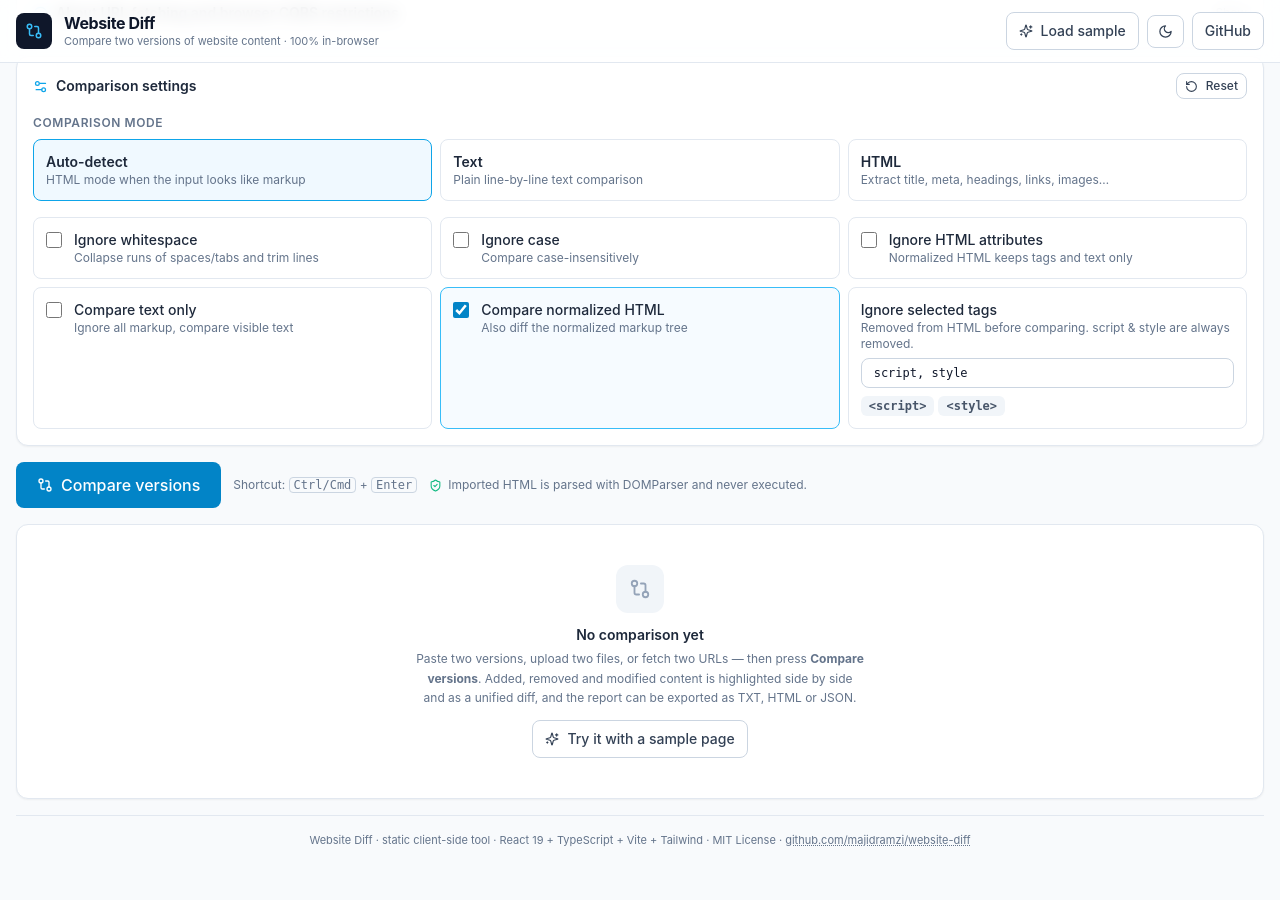
it: App UI › loads the HTML sample, compares it and shows the summary counts
(page scrolled)
Click the button "Try it with a sample page".
click(640, 738)  # box [532, 720, 748, 758]
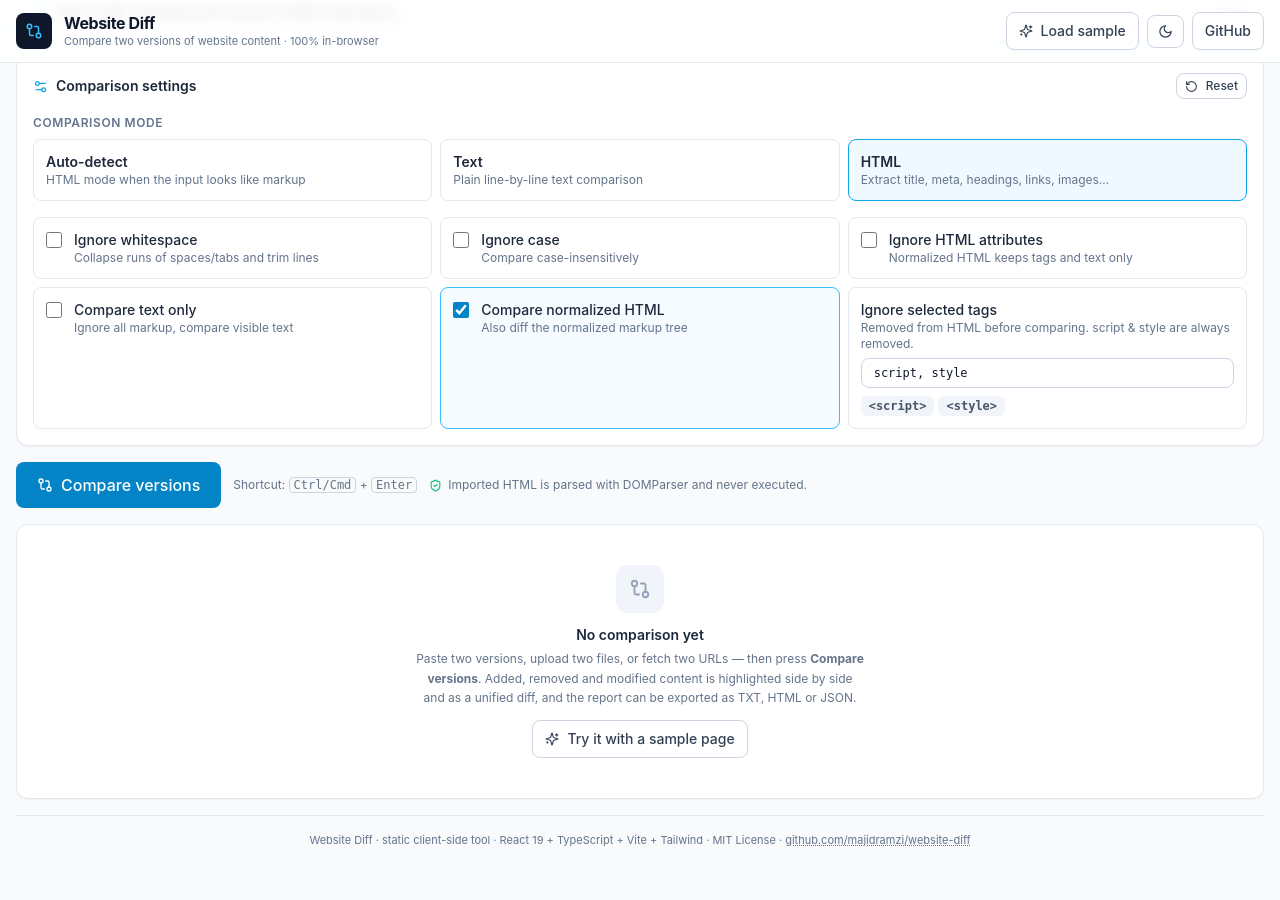
Click the button "Compare versions".
click(119, 485)  # box [16, 462, 221, 508]
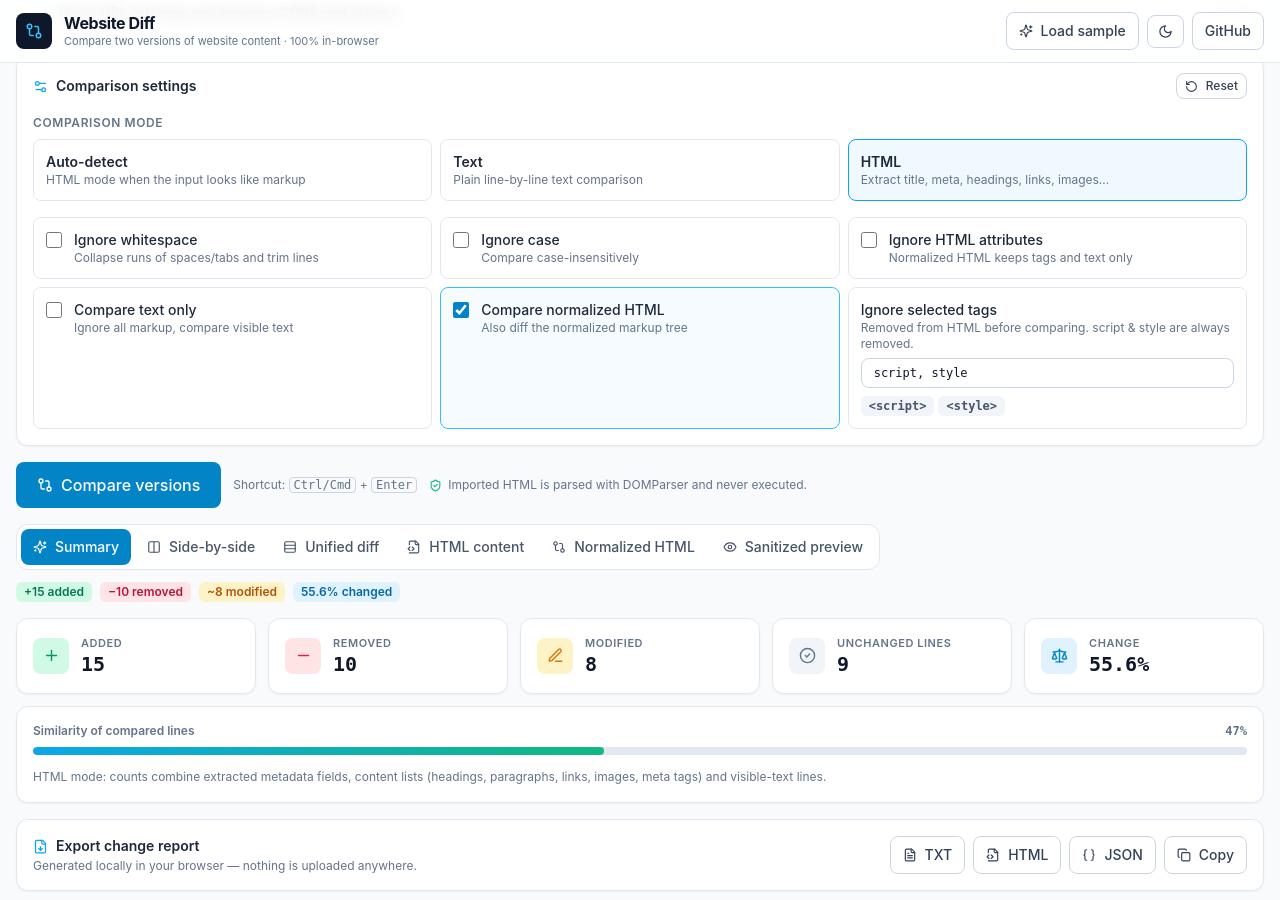
Expected: the text "No comparison yet" is gone
Expected: the text "Unchanged lines" is shown, [837, 635, 951, 652]
Expected: the button "HTML content" is shown, [395, 529, 536, 565]
